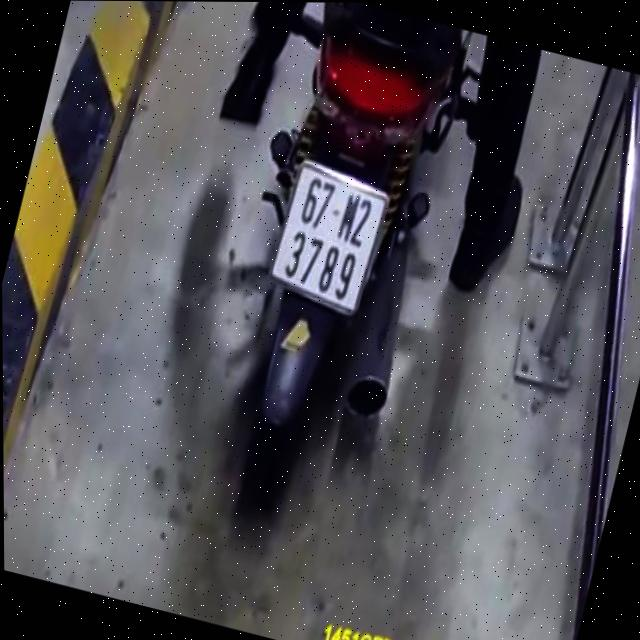motorcycle: (163, 1, 487, 550)
plate: (260, 154, 395, 318)
